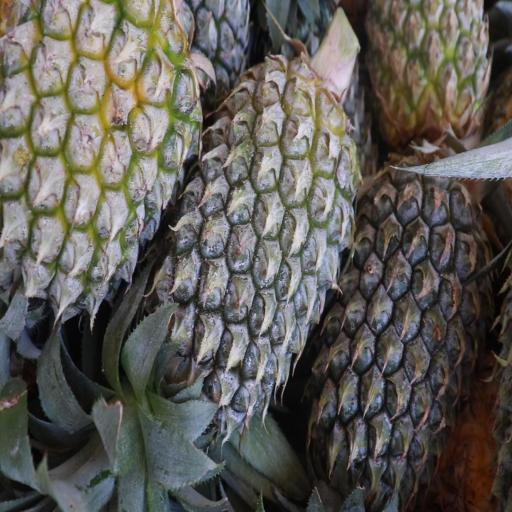------------------------------: (0, 0, 196, 293), (367, 0, 493, 141)
